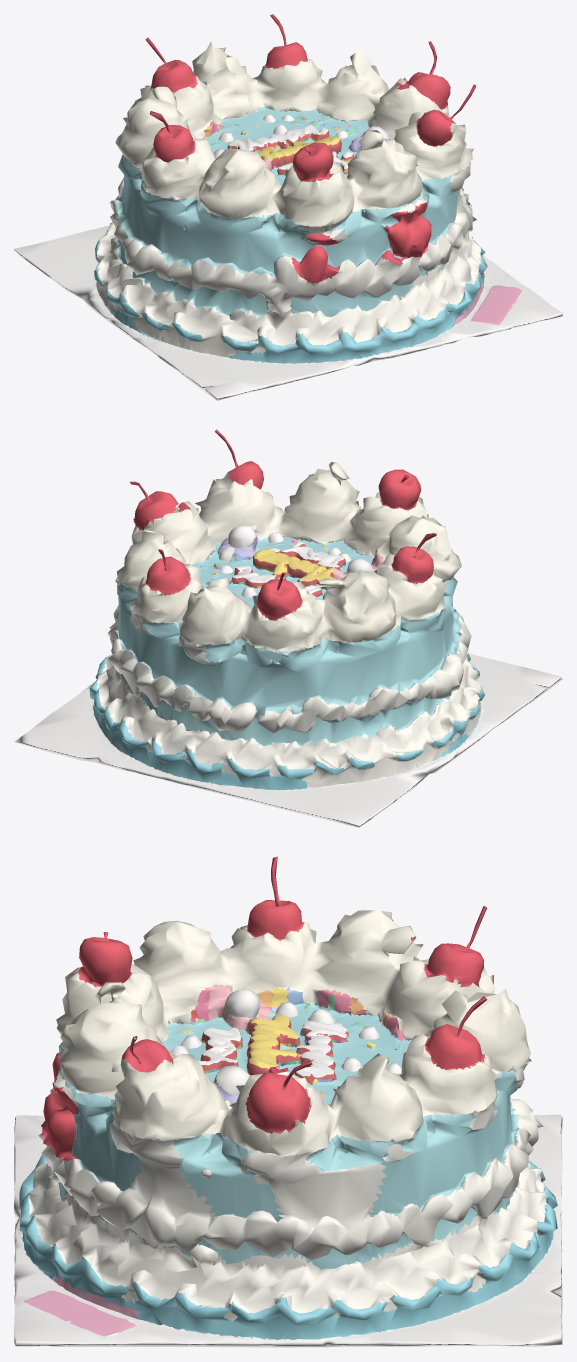
The model's file is VintageLetteringCake.gltf.
3 renders of one model, top to bottom at view 1: azimuth 30°, elevation 25°; view 2: azimuth 150°, elevation 25°; view 3: azimuth 270°, elevation 25°, orthographic. The views are drawn at different scales.
Parts seen in each view (by area): view 1: Cream, Side, BottomCream, Board, SideCream, Cherry, Piping, Top, Label, LetterHappy, LetterEdge, Pearl (+2 smaller); view 2: Cream, Side, Board, BottomCream, SideCream, Cherry, Piping, Top, Pearl, LetterName, LetterEdge, LetterDay (+2 smaller); view 3: Cream, SideCream, BottomCream, Side, Board, Piping, Cherry, Top, Pearl, Label, LetterEdge, LetterName (+5 smaller).
Boxes of the visible parts, x1=… form: Cream: x1=115, y1=41, x2=474, y2=227; Side: x1=116, y1=155, x2=458, y2=320; BottomCream: x1=95, y1=222, x2=480, y2=357; Board: x1=14, y1=225, x2=562, y2=400; SideCream: x1=110, y1=162, x2=476, y2=312; Cherry: x1=151, y1=37, x2=455, y2=283; Piping: x1=94, y1=225, x2=487, y2=363; Top: x1=139, y1=107, x2=427, y2=232; Label: x1=455, y1=283, x2=521, y2=324; LetterHappy: x1=229, y1=124, x2=328, y2=150; LetterEdge: x1=228, y1=131, x2=354, y2=173; Pearl: x1=213, y1=114, x2=389, y2=158; Cream: x1=115, y1=462, x2=461, y2=652; Side: x1=117, y1=576, x2=460, y2=746; Board: x1=14, y1=653, x2=562, y2=827; BottomCream: x1=97, y1=652, x2=481, y2=787; SideCream: x1=107, y1=584, x2=471, y2=732; Cherry: x1=133, y1=461, x2=433, y2=620; Piping: x1=89, y1=652, x2=484, y2=790; Top: x1=173, y1=535, x2=410, y2=654; Pearl: x1=218, y1=524, x2=372, y2=597; LetterName: x1=254, y1=549, x2=336, y2=581; LetterEdge: x1=231, y1=544, x2=345, y2=596; LetterDay: x1=268, y1=541, x2=344, y2=567; Cream: x1=56, y1=910, x2=530, y2=1156; SideCream: x1=38, y1=1042, x2=543, y2=1269; BottomCream: x1=28, y1=1163, x2=546, y2=1321; Side: x1=57, y1=1043, x2=519, y2=1270; Board: x1=14, y1=1114, x2=562, y2=1347; Piping: x1=18, y1=1154, x2=557, y2=1339; Cherry: x1=41, y1=891, x2=485, y2=1161; Top: x1=105, y1=1003, x2=436, y2=1157; Pearl: x1=171, y1=988, x2=401, y2=1095; Label: x1=24, y1=1275, x2=138, y2=1336; LetterEdge: x1=190, y1=1010, x2=348, y2=1084; LetterName: x1=240, y1=1015, x2=297, y2=1073.
Size of the model in its own units: 3.01 by 1.75 by 3.06.
